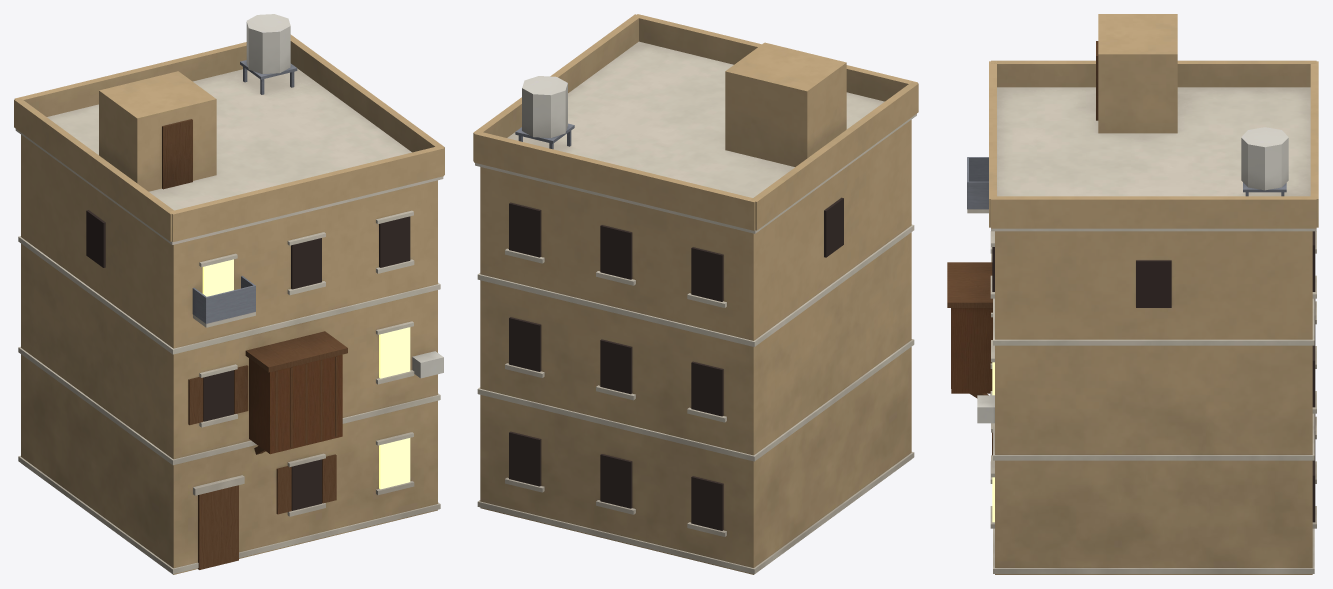
File: hus_kairo_1_tex.glb
3 views of the same model, side by side, from view 1: azimuth 30°, elevation 25°; view 2: azimuth 150°, elevation 25°; view 3: azimuth 270°, elevation 25° (orthographic). The views are drawn at different scales.
Parts seen in each view (by area): view 1: hus_kairo_1; view 2: hus_kairo_1; view 3: hus_kairo_1.
Boxes of the visible parts, <box> form: hus_kairo_1: <box>14,14,444,574</box>; hus_kairo_1: <box>473,14,918,574</box>; hus_kairo_1: <box>947,14,1318,574</box>.
Bounding box in the file's own units: 8.3 × 12.05 × 9.35.
8 materials, 6 textured.
